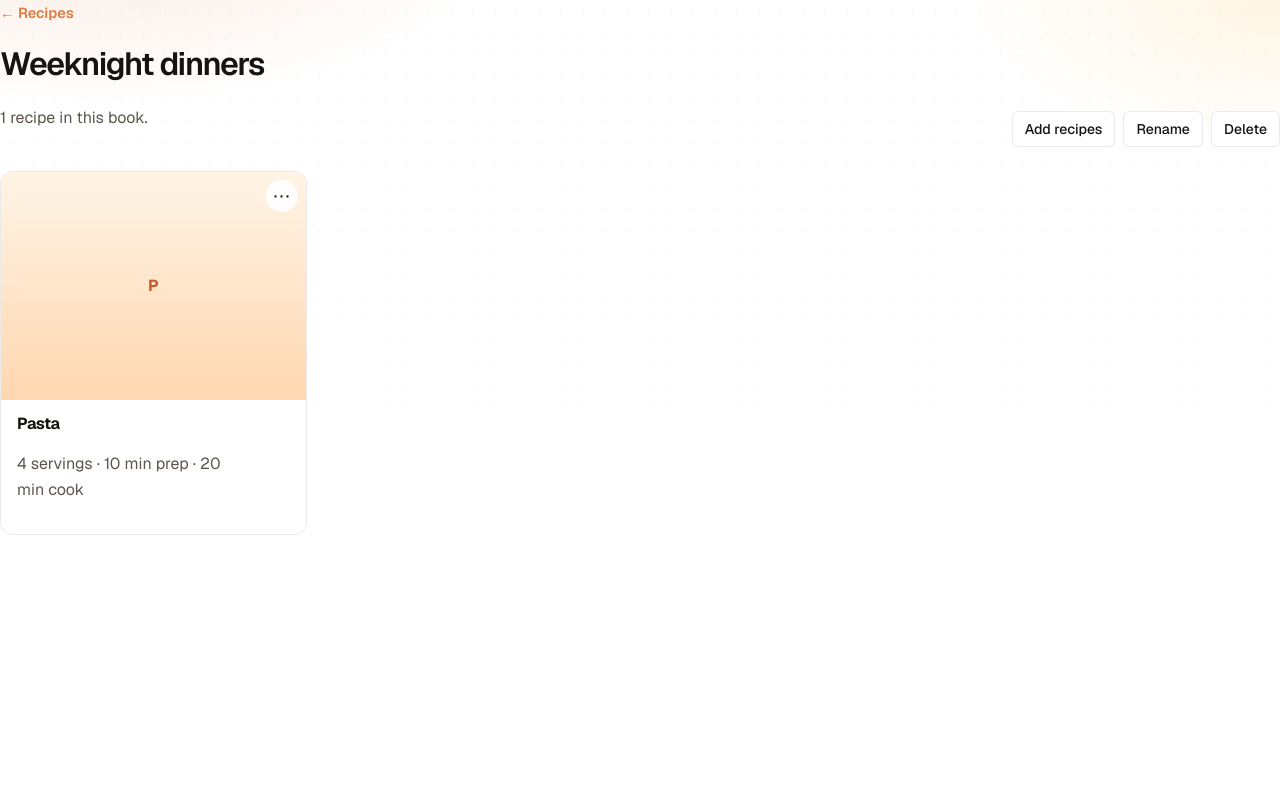
Scenario: CookbookRecipes add and remove › shows a delete error in the confirm sheet
This screenshot has width=1280, height=800.
Click the button "Delete": (1245, 129) [1211,111,1279,147]
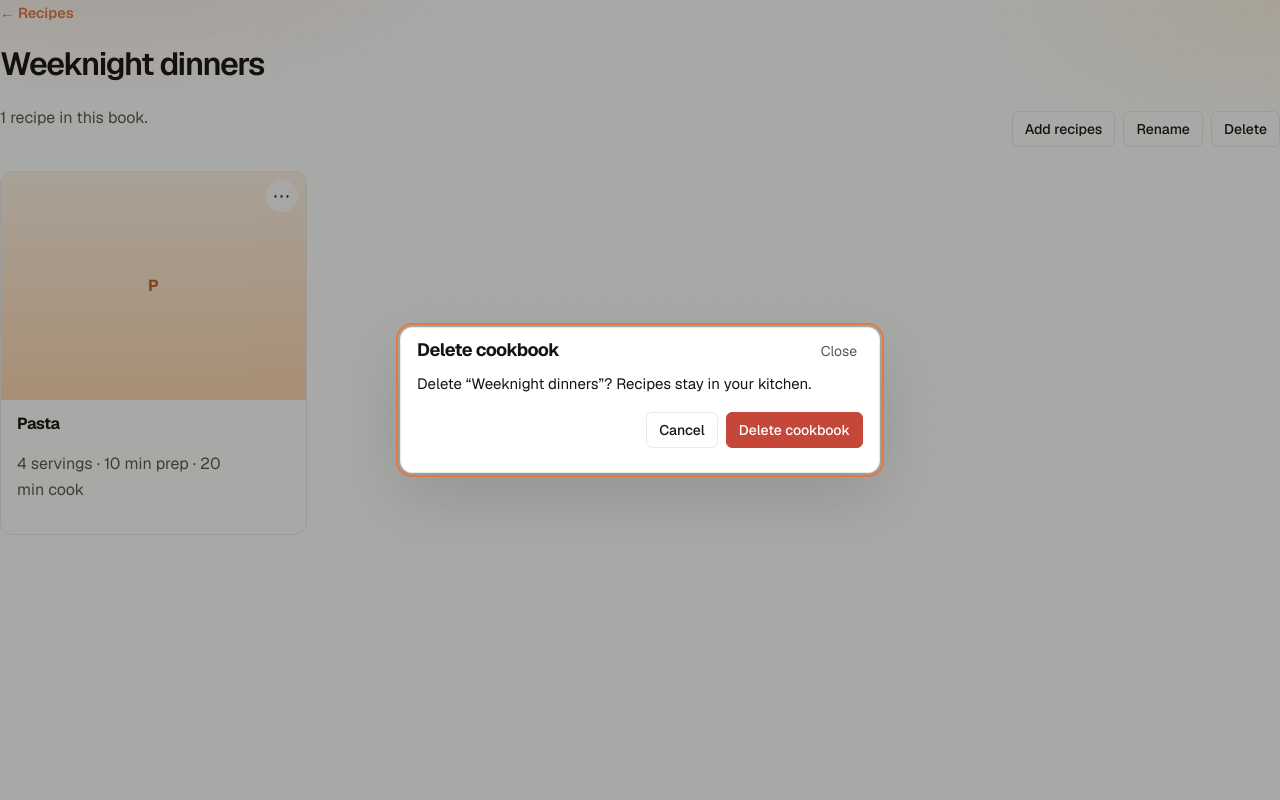
Click the button "Delete cookbook": (794, 430) [726,412,863,448]
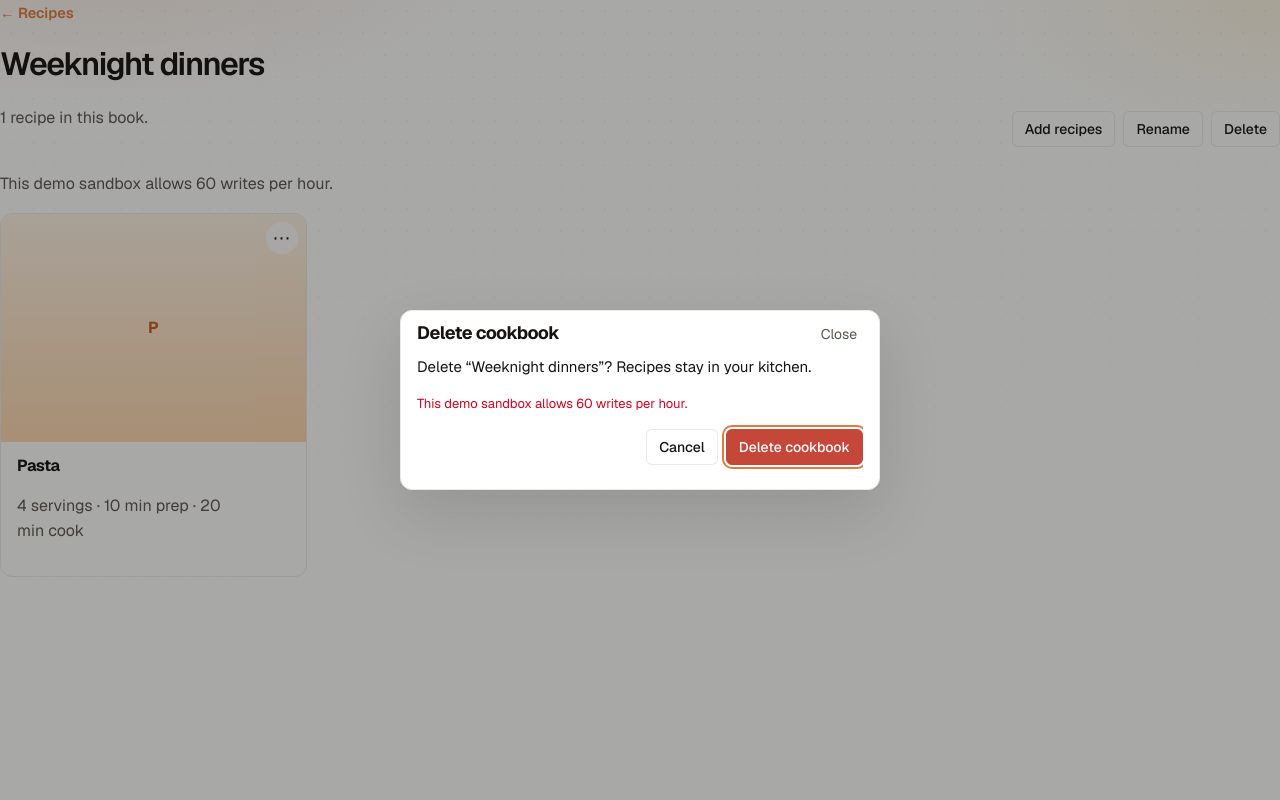
expect the text "This demo sandbox allows 60 writes per hour." is shown: met, box [417,395,687,412]
